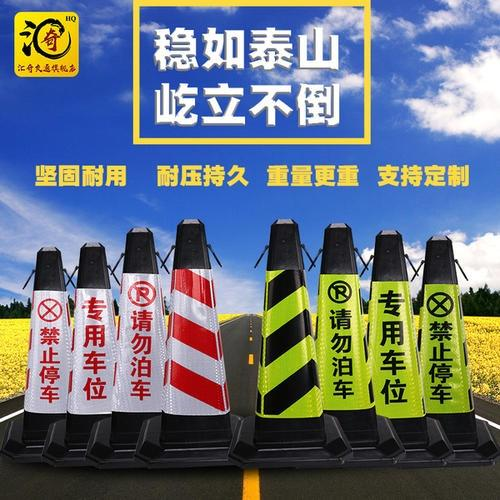cone_barrel: (160, 215, 231, 455), (250, 216, 318, 456), (108, 225, 173, 464), (318, 220, 379, 445), (364, 227, 424, 448), (13, 250, 76, 455), (419, 234, 477, 456), (64, 244, 120, 451)
